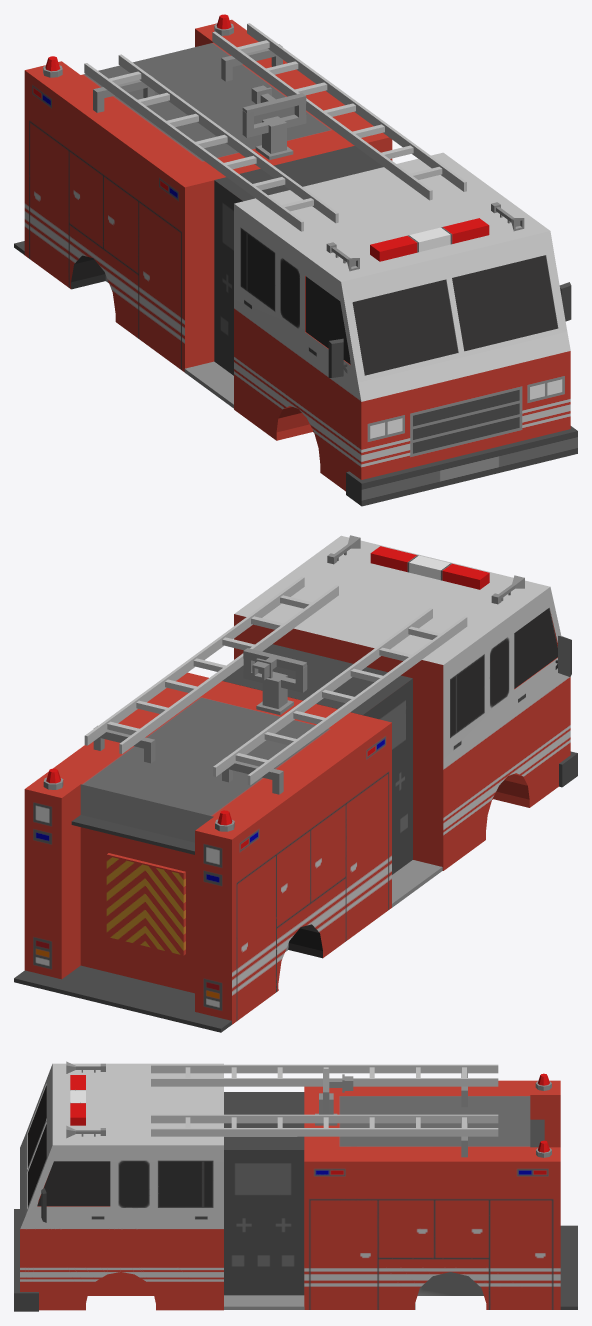
The model's file is fireTruck_chassis2.glb.
3 views of the same model, one above another, from view 1: azimuth 30°, elevation 25°; view 2: azimuth 150°, elevation 25°; view 3: azimuth 270°, elevation 25° (orthographic). The views are drawn at different scales.
Visible parts, largest first — view 1: Object_193.001; view 2: Object_193.001; view 3: Object_193.001.
Boxes of the visible parts, left/top/right/bottom form: Object_193.001: left=14, top=14, right=577, bottom=506; Object_193.001: left=14, top=535, right=577, bottom=1032; Object_193.001: left=14, top=1061, right=577, bottom=1311.
Bounding box in the file's own units: 3.63 × 3.45 × 9.18.
Materials: 1 (1 with a texture image).
